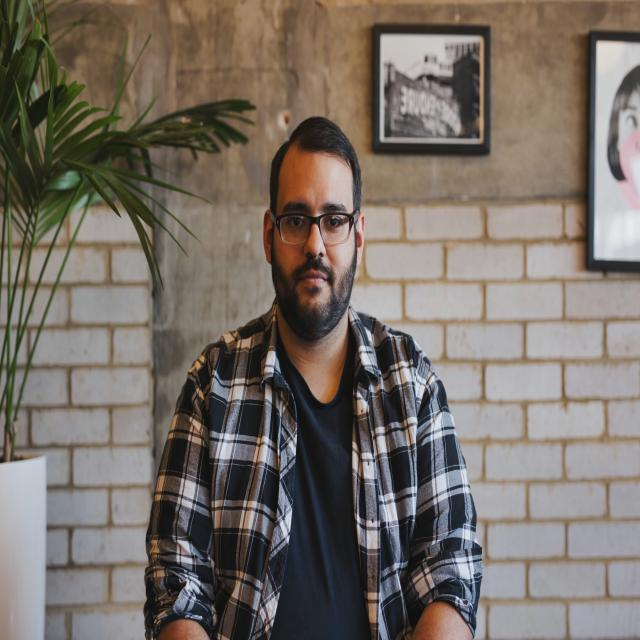adult: (151, 117, 478, 640)
